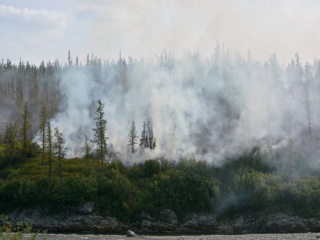smoke: (35, 61, 302, 162)
